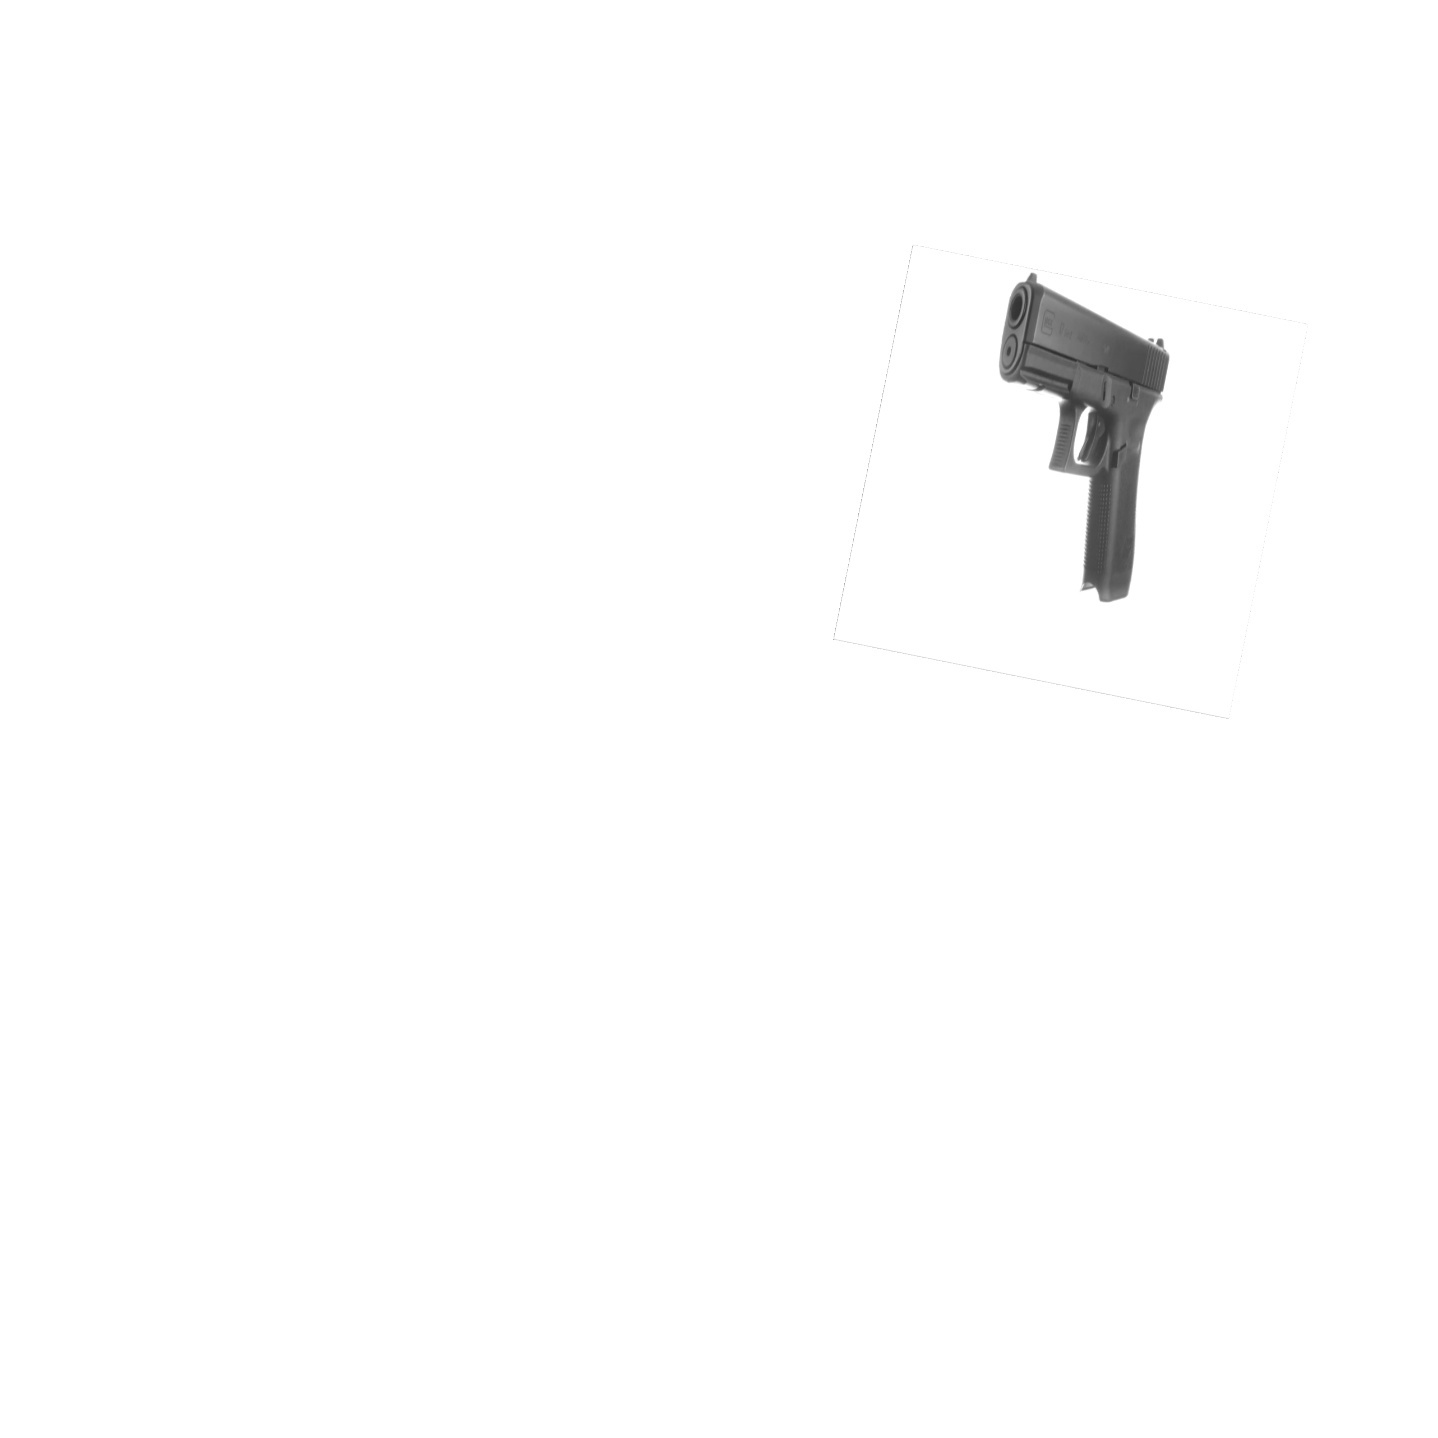gun: (982, 266, 1172, 608)
